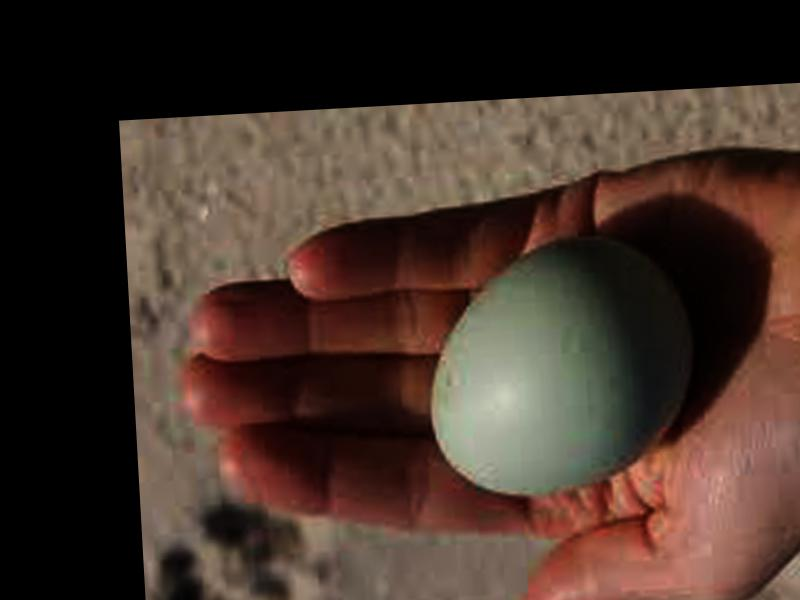Eggs: (427, 230, 695, 495)
